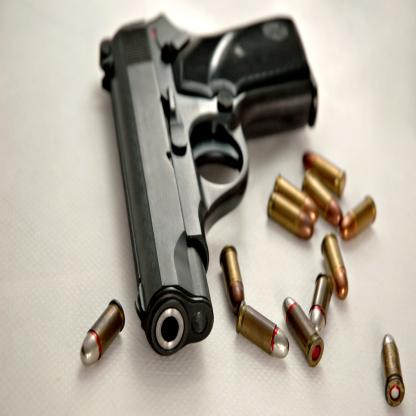handgun: (99, 10, 319, 356)
